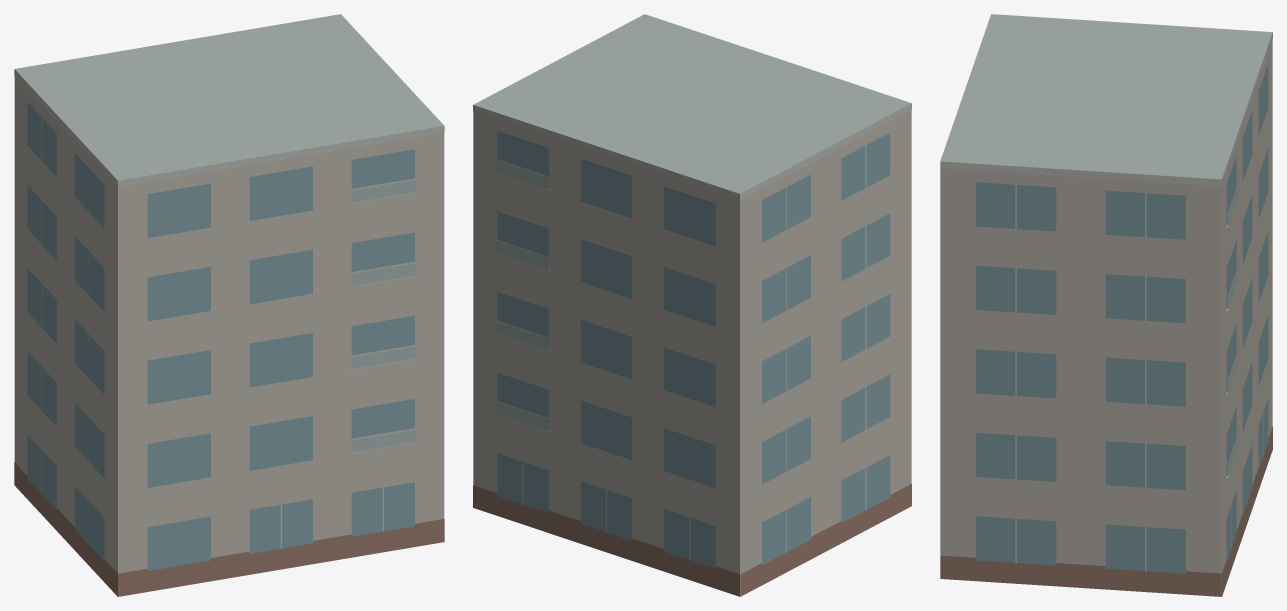
Rendered from survey-upis-33017085.glb.
3 views of the same model, side by side, from view 1: azimuth 30°, elevation 25°; view 2: azimuth 150°, elevation 25°; view 3: azimuth 270°, elevation 25° (orthographic). The views are drawn at different scales.
Parts seen in each view (by area): view 1: survey-upis-33017085.tmp; view 2: survey-upis-33017085.tmp; view 3: survey-upis-33017085.tmp.
Part boxes in pixels (x1=…): survey-upis-33017085.tmp: x1=14, y1=14, x2=444, y2=596; survey-upis-33017085.tmp: x1=473, y1=14, x2=911, y2=596; survey-upis-33017085.tmp: x1=940, y1=14, x2=1272, y2=596.
Bounding box in the file's own units: 12.34 × 14.5 × 10.48.
